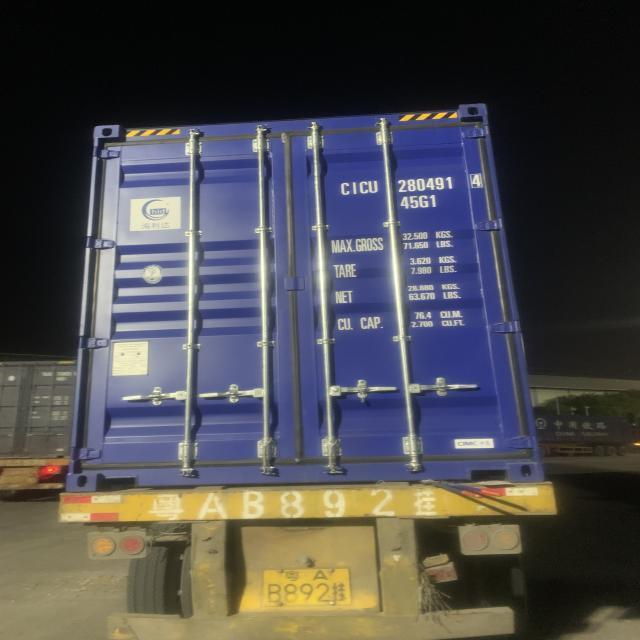ISO: (400, 193, 437, 210)
container_number: (340, 176, 484, 193)
